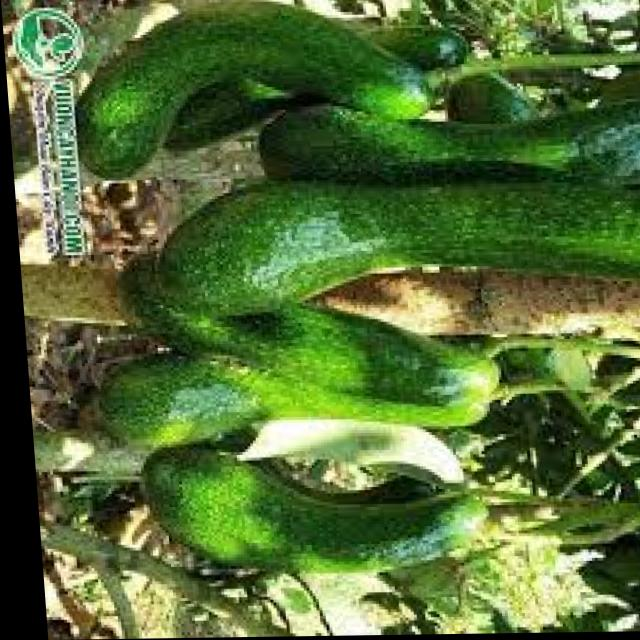Bo: (144, 172, 640, 324), (71, 1, 466, 181), (82, 295, 500, 440), (132, 446, 484, 578), (245, 99, 638, 186)
